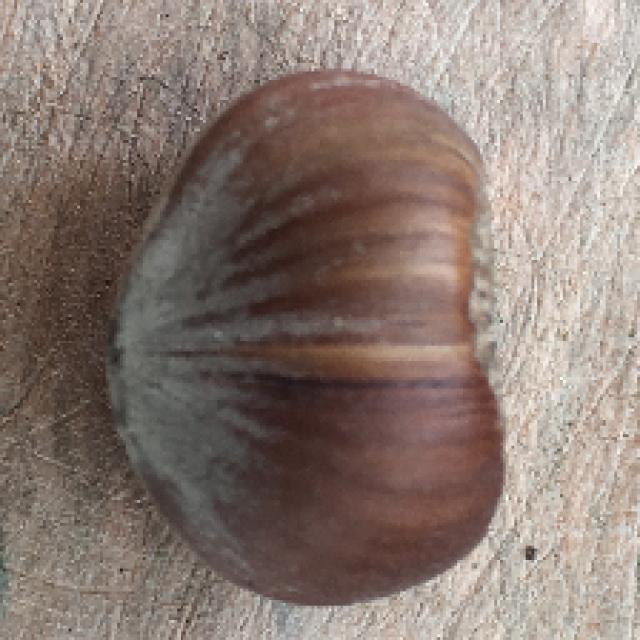qualityHazelnut: (123, 62, 511, 608)
